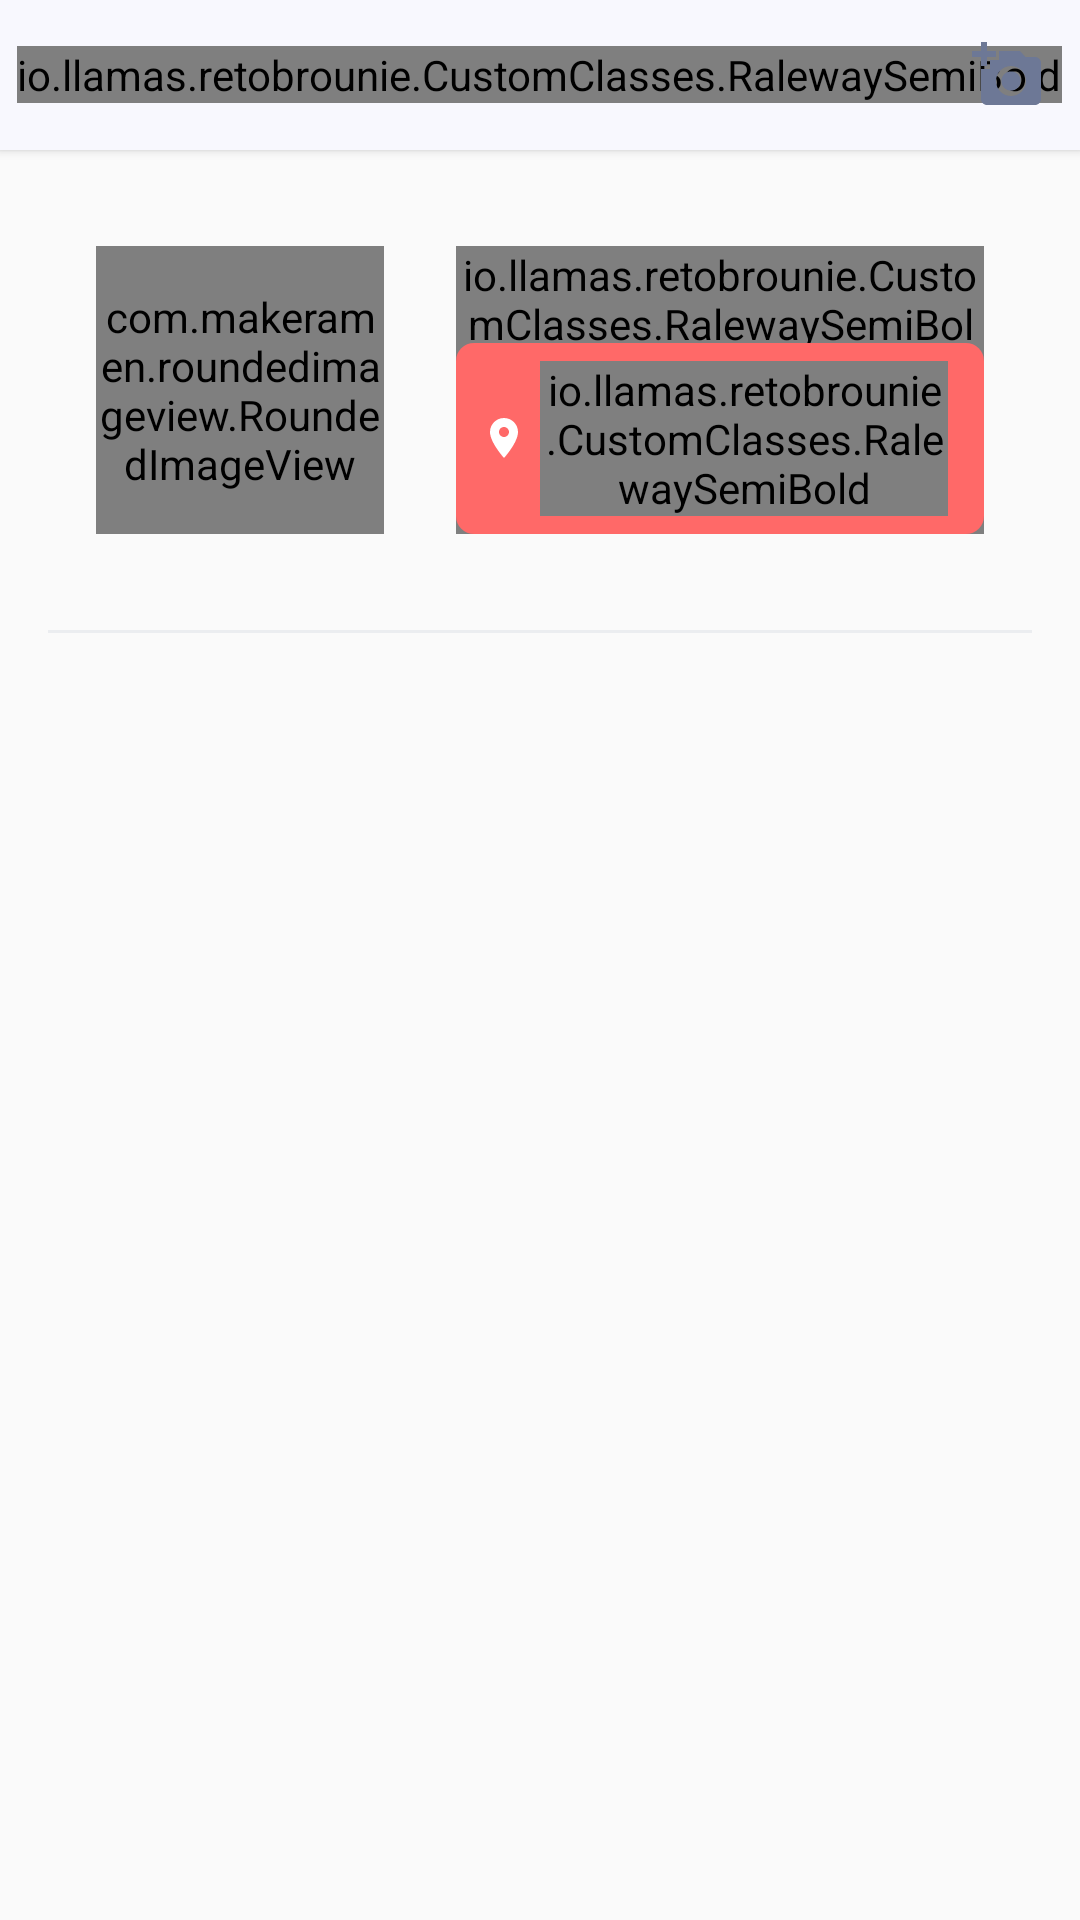

Screen size 1080 × 1920. Icon name, then its center in pixels as point (x, y):
location: point (504, 438)
